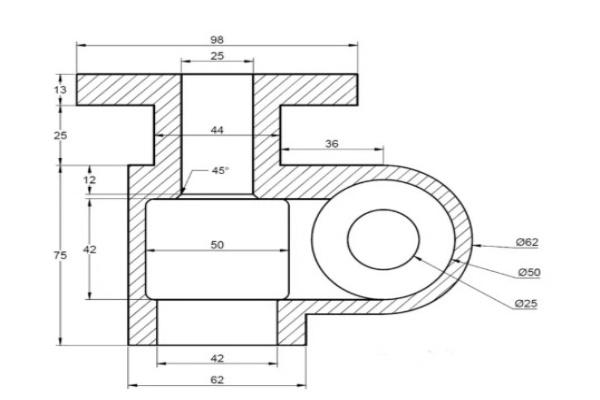dimensions: (43, 120, 77, 147), (205, 23, 237, 49), (509, 230, 545, 251), (513, 264, 553, 282), (511, 294, 545, 315), (76, 240, 108, 262), (205, 46, 236, 66), (49, 77, 76, 99), (204, 235, 233, 254), (45, 248, 74, 266), (320, 131, 344, 152), (78, 172, 105, 190), (207, 122, 232, 141), (205, 349, 228, 369), (205, 373, 232, 389)
